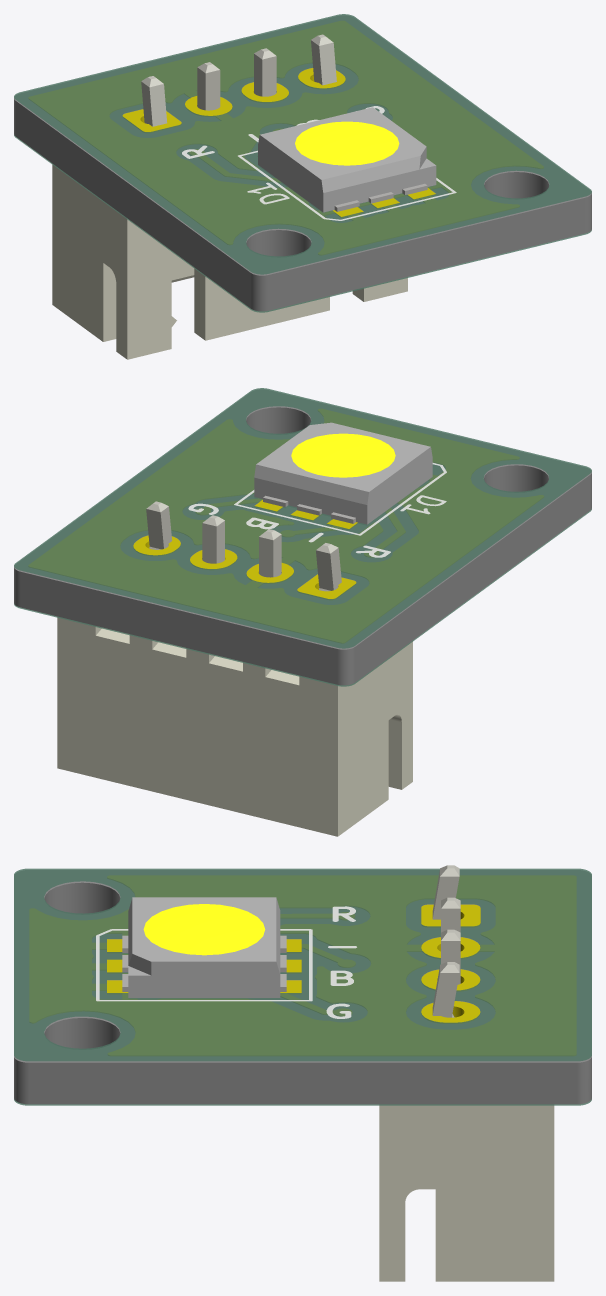
Rendered from rgbLed.glb.
3 views of the same model, one above another, from view 1: azimuth 30°, elevation 25°; view 2: azimuth 150°, elevation 25°; view 3: azimuth 270°, elevation 25° (orthographic). The views are drawn at different scales.
Parts seen in each view (by area): view 1: =>[0:1:1:6], =>[0:1:1:4], =>[0:1:1:7], rgbPin, PART1:1, ledGlass, =>[0:1:1:5].009; view 2: =>[0:1:1:6], rgbPin, =>[0:1:1:4], =>[0:1:1:7], PART1:1, ledGlass, =>[0:1:1:5].009; view 3: =>[0:1:1:6], =>[0:1:1:4], =>[0:1:1:7], rgbPin, PART1:1, ledGlass, =>[0:1:1:5].009.
Boxes of the visible parts, left/top/right/bottom form: =>[0:1:1:6]: left=14, top=14, right=591, bottom=312; =>[0:1:1:4]: left=29, top=21, right=543, bottom=254; =>[0:1:1:7]: left=14, top=16, right=591, bottom=311; rgbPin: left=52, top=34, right=407, bottom=359; PART1:1: left=258, top=107, right=436, bottom=212; ledGlass: left=295, top=121, right=399, bottom=165; =>[0:1:1:5].009: left=182, top=106, right=456, bottom=220; =>[0:1:1:6]: left=14, top=388, right=591, bottom=686; rgbPin: left=57, top=501, right=412, bottom=836; =>[0:1:1:4]: left=29, top=409, right=543, bottom=642; =>[0:1:1:7]: left=14, top=390, right=591, bottom=685; PART1:1: left=254, top=422, right=432, bottom=524; ledGlass: left=291, top=433, right=395, bottom=477; =>[0:1:1:5].009: left=188, top=463, right=446, bottom=557; =>[0:1:1:6]: left=14, top=868, right=591, bottom=1105; =>[0:1:1:4]: left=30, top=876, right=575, bottom=1055; =>[0:1:1:7]: left=14, top=870, right=591, bottom=1104; rgbPin: left=379, top=865, right=554, bottom=1281; PART1:1: left=128, top=897, right=280, bottom=998; ledGlass: left=143, top=904, right=265, bottom=955; =>[0:1:1:5].009: left=96, top=906, right=356, bottom=1018.
Size of the model in its own units: 0.015 by 0.0104 by 0.019.
